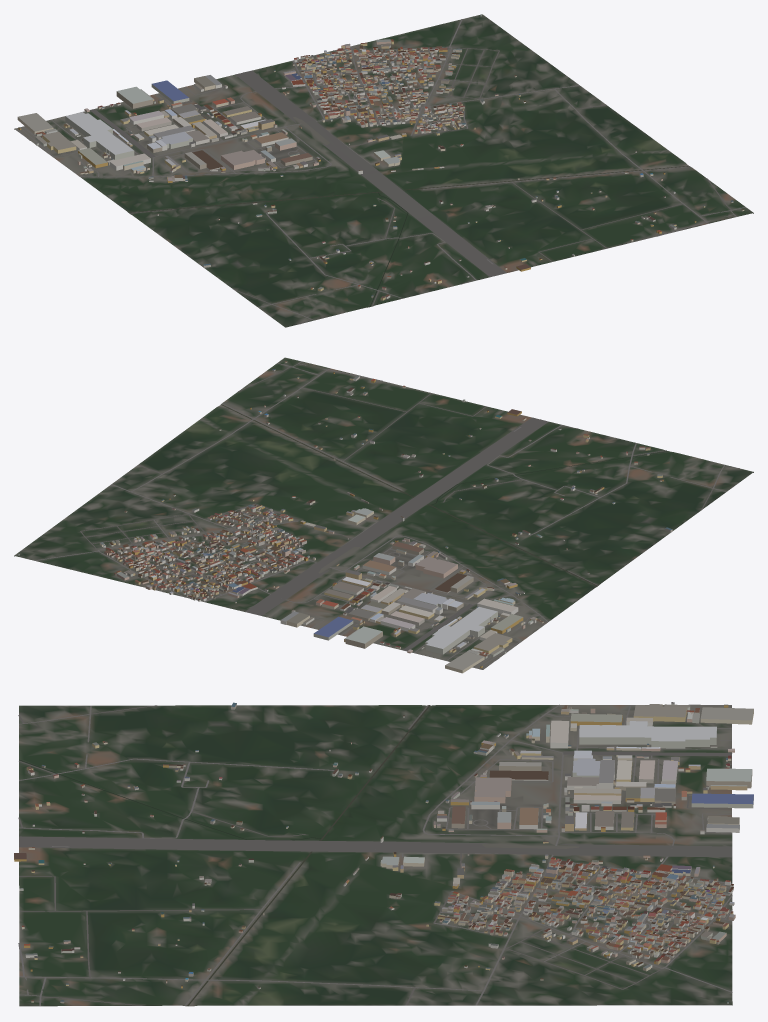
The picture shows the model from 3 angles, top to bottom: view 1: azimuth 30°, elevation 25°; view 2: azimuth 150°, elevation 25°; view 3: azimuth 270°, elevation 25°; orthographic projection. The views are drawn at different scales.
Parts seen in each view (by area): view 1: ground, buildings, roads, water; view 2: ground, buildings, roads, water; view 3: ground, buildings, roads, water.
Boxes of the visible parts, x1=… form: ground: x1=14, y1=14, x2=753, y2=327; buildings: x1=17, y1=15, x2=744, y2=300; roads: x1=15, y1=19, x2=745, y2=324; water: x1=129, y1=166, x2=689, y2=306; ground: x1=14, y1=357, x2=753, y2=669; buildings: x1=18, y1=361, x2=672, y2=673; roads: x1=34, y1=361, x2=739, y2=669; water: x1=221, y1=404, x2=668, y2=586; ground: x1=19, y1=705, x2=732, y2=1006; buildings: x1=14, y1=702, x2=753, y2=1003; roads: x1=18, y1=704, x2=732, y2=1005; water: x1=19, y1=705, x2=430, y2=1006.
Size of the model in its own units: 1402 by 20.97 by 1455.
